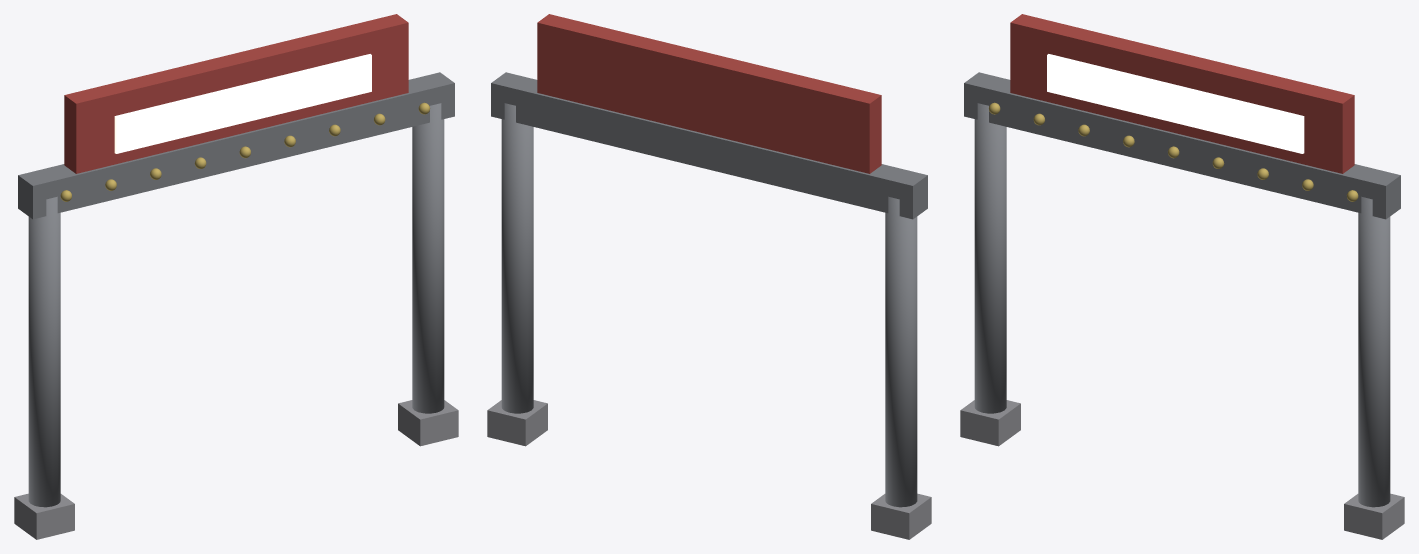
File: prop_shotengai_arch.glb
3 renders of one model, left to right at view 1: azimuth 30°, elevation 25°; view 2: azimuth 150°, elevation 25°; view 3: azimuth 330°, elevation 25°, orthographic.
Visible parts, largest first — view 1: shotengai_arch; view 2: shotengai_arch; view 3: shotengai_arch.
Boxes of the visible parts, left/top/right/bottom form: shotengai_arch: left=14, top=14, right=458, bottom=539; shotengai_arch: left=487, top=14, right=931, bottom=539; shotengai_arch: left=960, top=14, right=1404, bottom=539.
Bounding box in the file's own units: 6.6 × 6.3 × 0.62.
